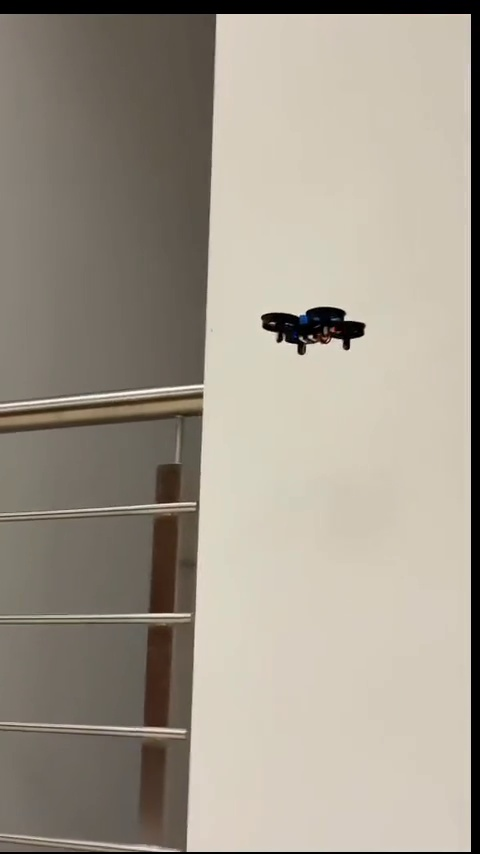drone: (261, 310, 368, 351)
